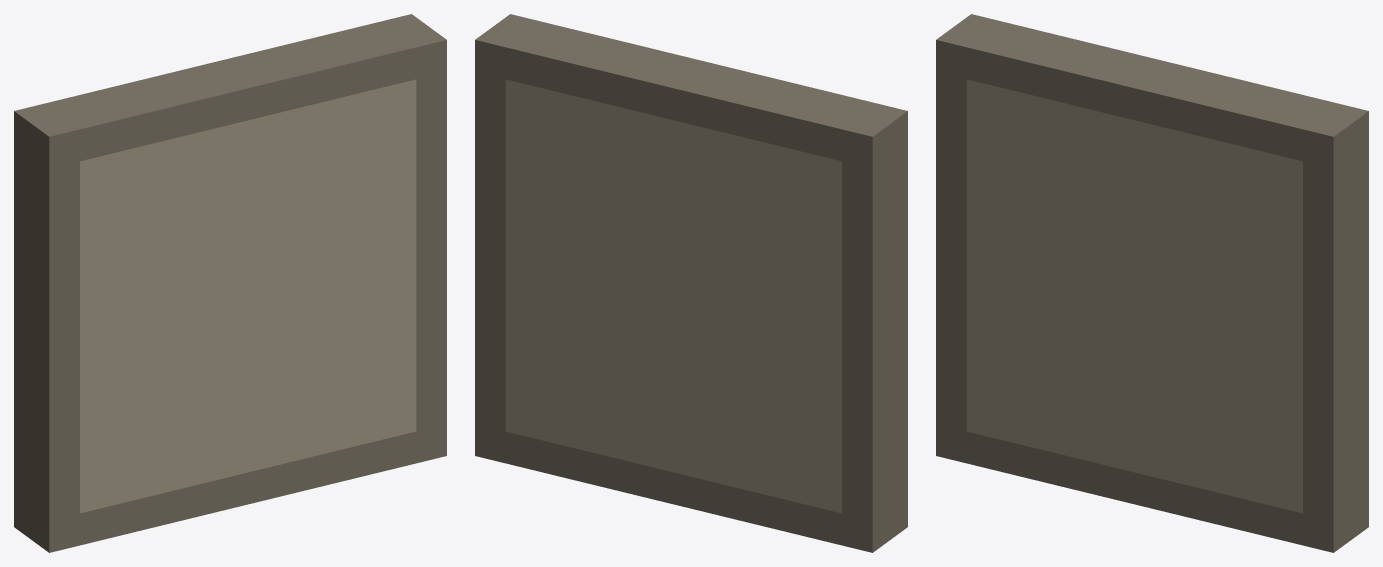
File: tapiz_lana_01.glb
3 renders of one model, left to right at view 1: azimuth 30°, elevation 25°; view 2: azimuth 150°, elevation 25°; view 3: azimuth 330°, elevation 25°, orthographic.
Visible parts, largest first — view 1: tapiz_lana; view 2: tapiz_lana; view 3: tapiz_lana.
Boxes of the visible parts, left/top/right/bottom form: tapiz_lana: left=14, top=14, right=446, bottom=552; tapiz_lana: left=475, top=14, right=907, bottom=552; tapiz_lana: left=936, top=14, right=1368, bottom=552.
Size of the model in its own units: 1 by 1 by 0.1538.
